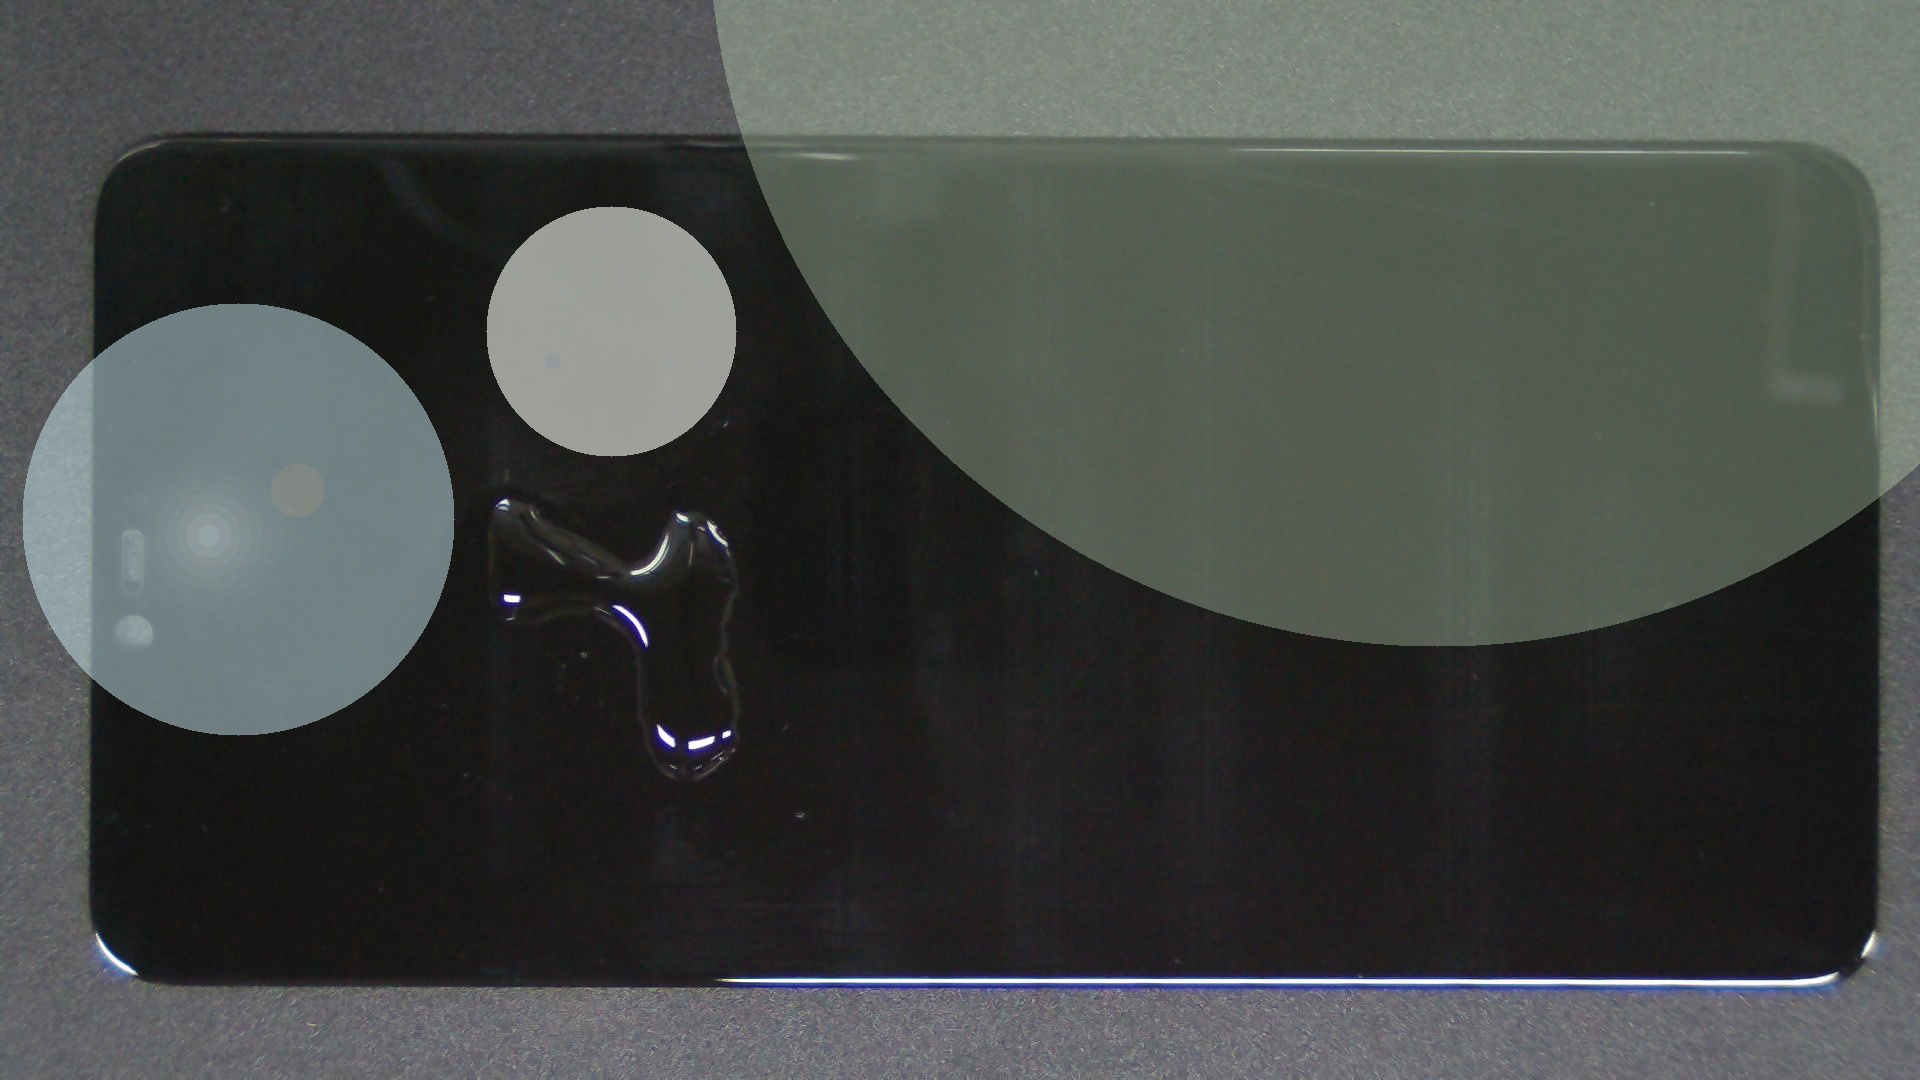oil: (255, 249, 761, 749)
